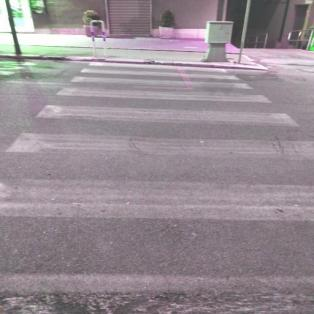Paso de Cebra: (29, 87, 309, 133), (76, 60, 244, 81)
